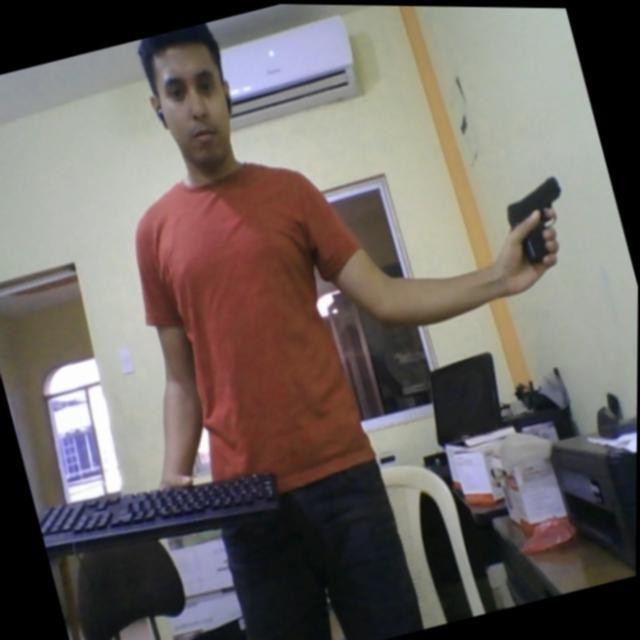weapon: (498, 170, 580, 268)
